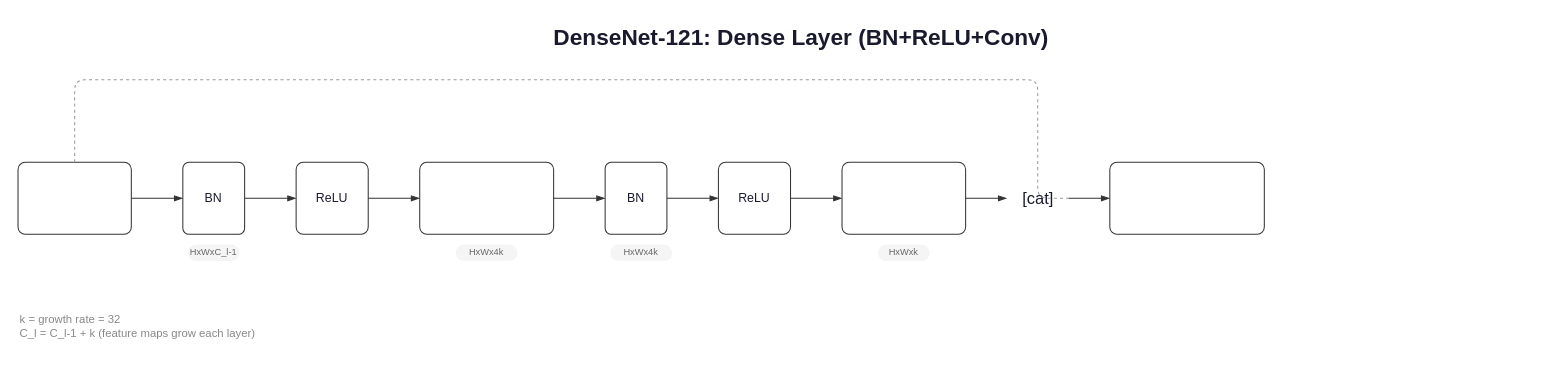
Image size: 1560x375. Some labels were removed from this diagram. The centre of each missing label's shape, as x and y in pixels:
conv 1×1 p0 s1 C_l-1→4k: the point at 486,197
conv 3×3 p1 s1 4k→k: the point at 903,197
x_l H×W×C_l C_l=C_l-1+k: the point at 1186,197
x_l-1 HxWxC_l-1: the point at 74,197
